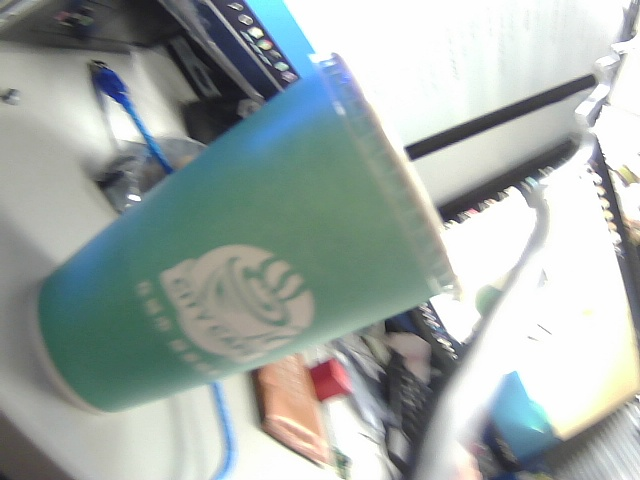beverage: (22, 47, 611, 420)
